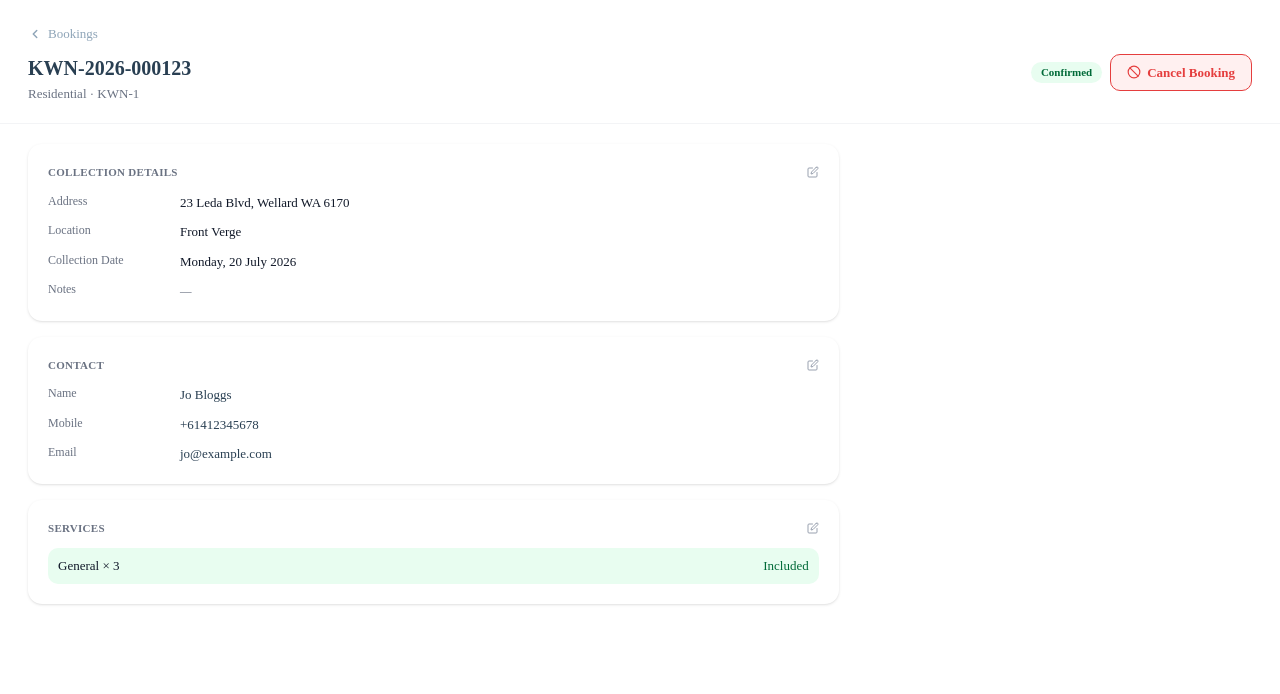
Test: inline quantity editor — interaction › surfaces a server block (e.g. drift / requires payment) as an error
Click the button named "Edit quantities" at x=813, y=528, box [807, 522, 819, 534]
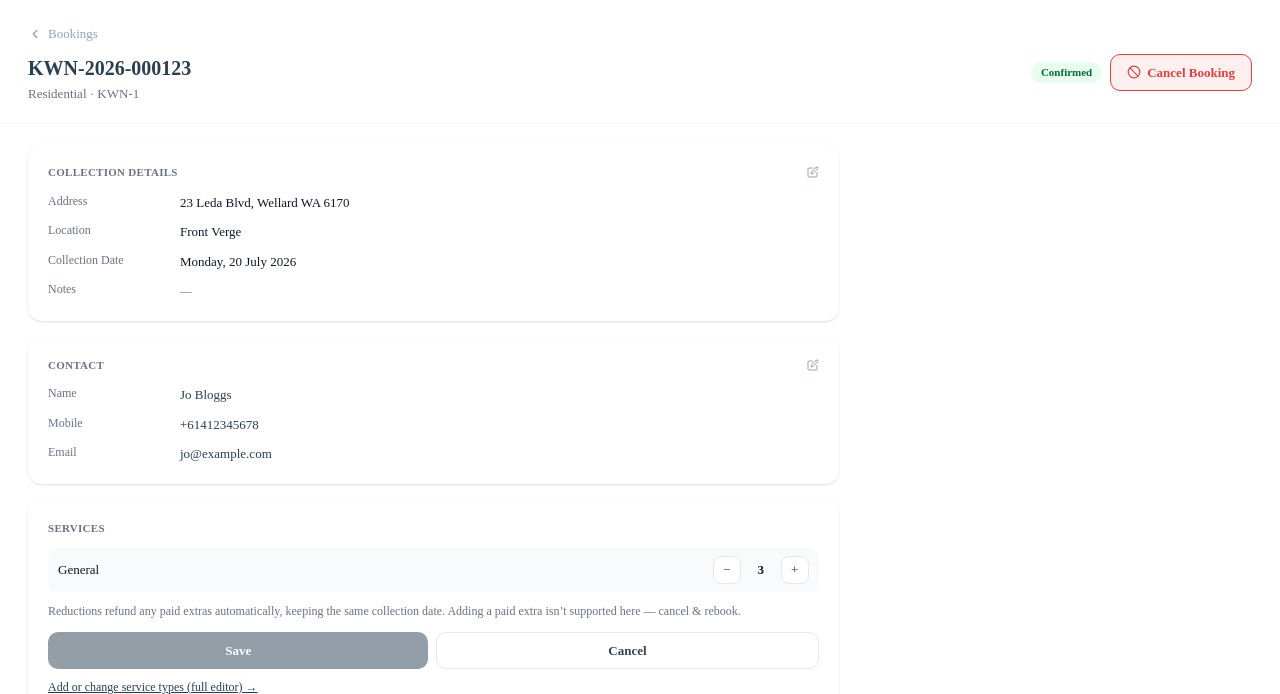
Click the button named "Decrease General" at x=727, y=570, box [713, 556, 741, 584]
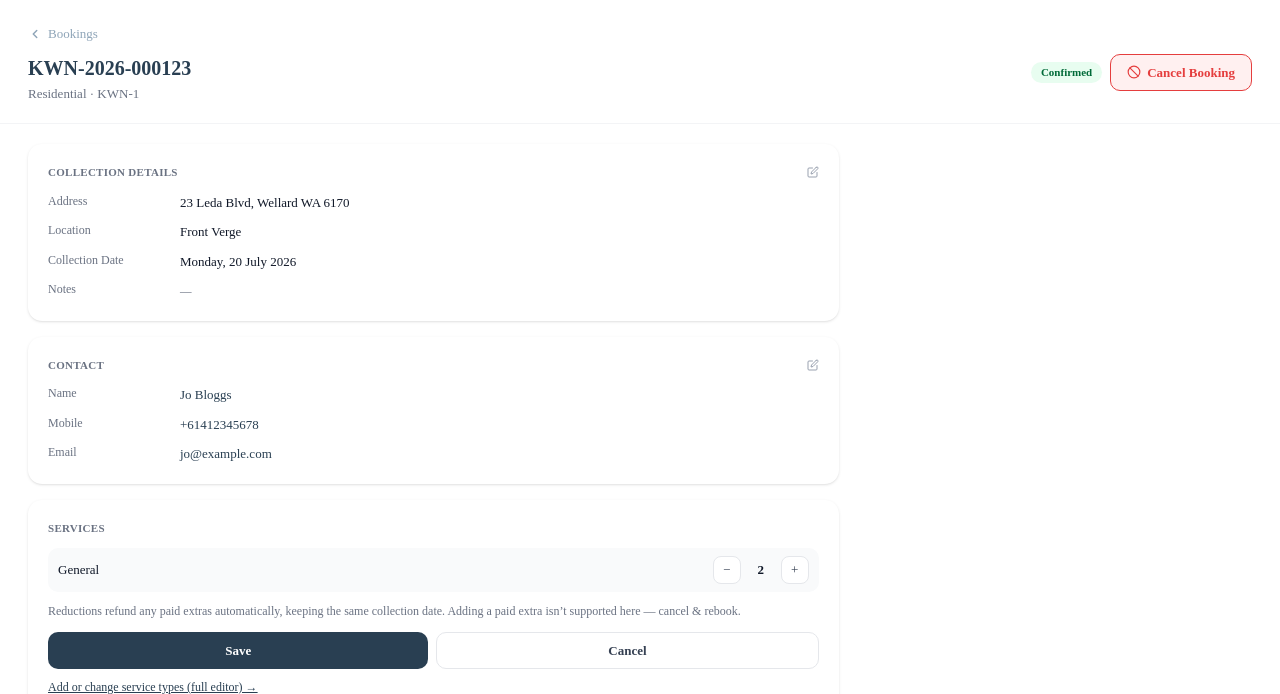
Click the button "Save" at x=238, y=650, box [48, 632, 428, 669]
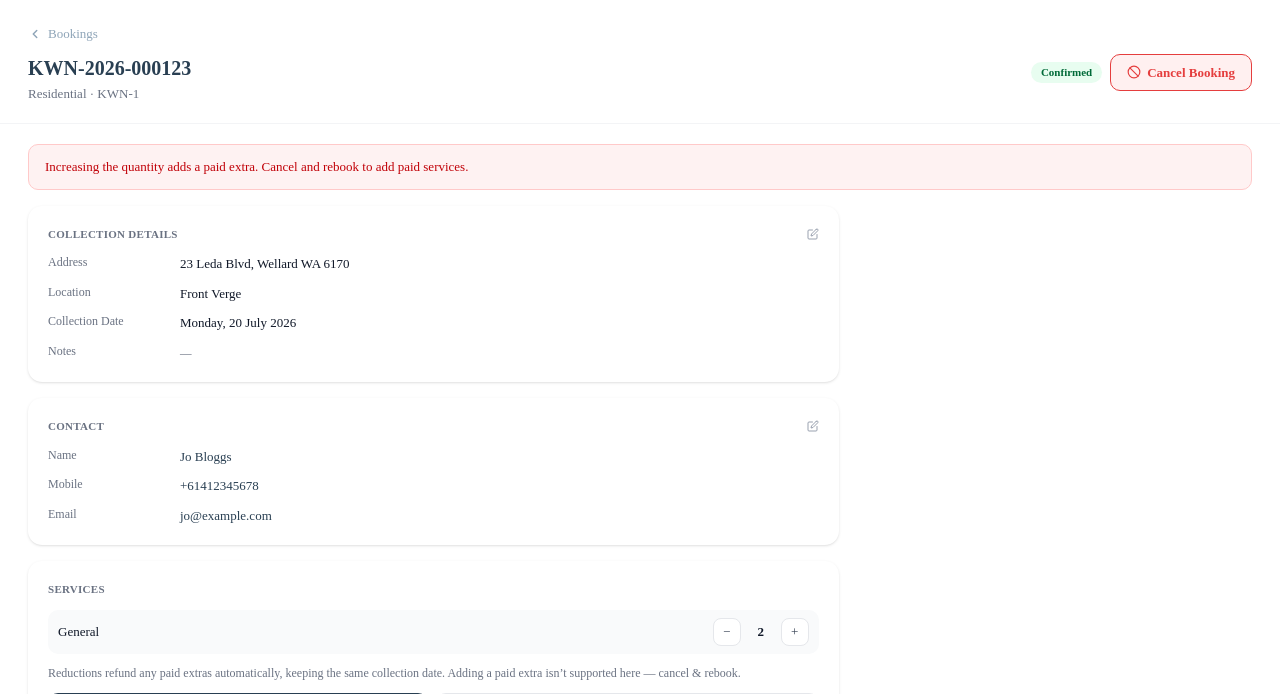
Result: the message shows "Cancel and rebook to add paid services" at [45, 159, 468, 174]
